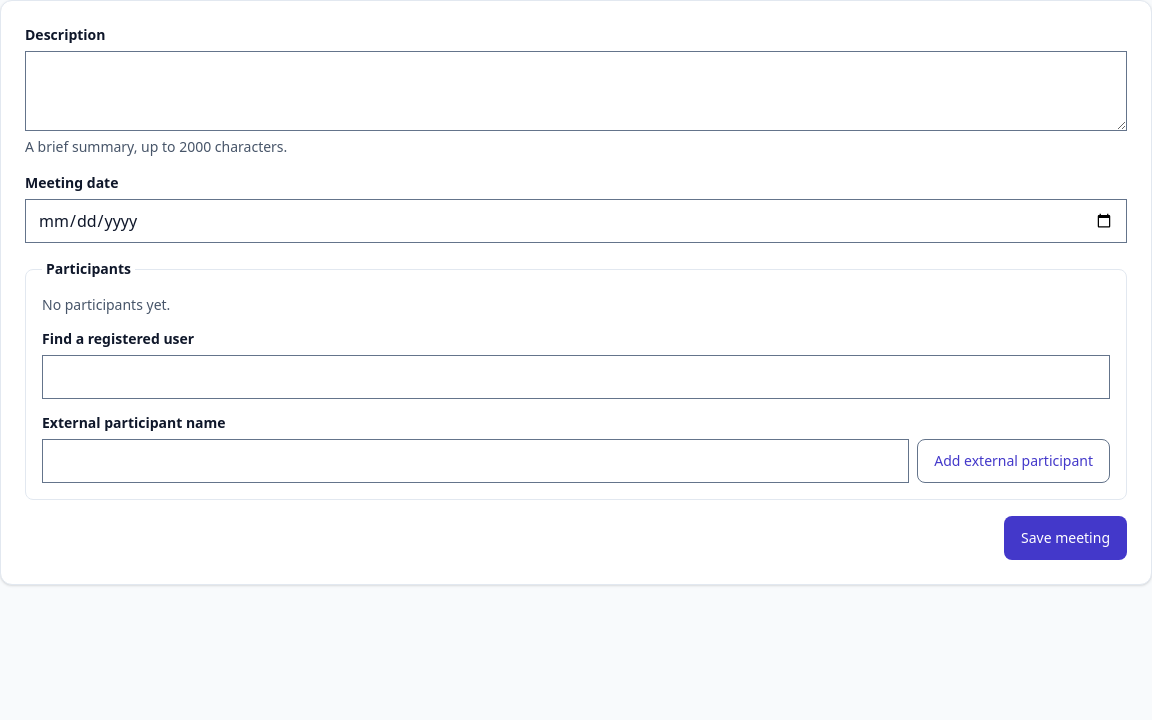
Test case: MeetingForm › requires a description, a date and at least one participant
This screenshot has width=1152, height=720.
Step 1. Click the button "Save meeting" → [1066, 538], box [1004, 516, 1127, 560]
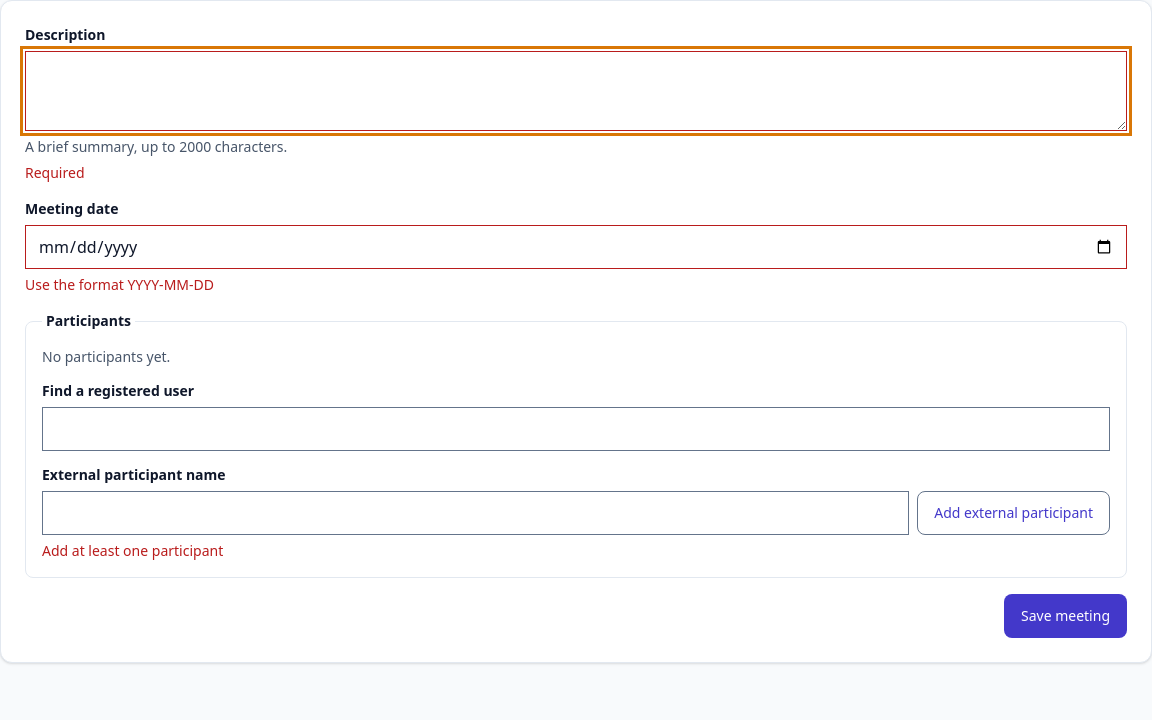
Now the text "Add at least one participant" is shown, box [42, 541, 223, 560]
Now the text "Use the format YYYY-MM-DD" is shown, box [25, 275, 214, 294]
